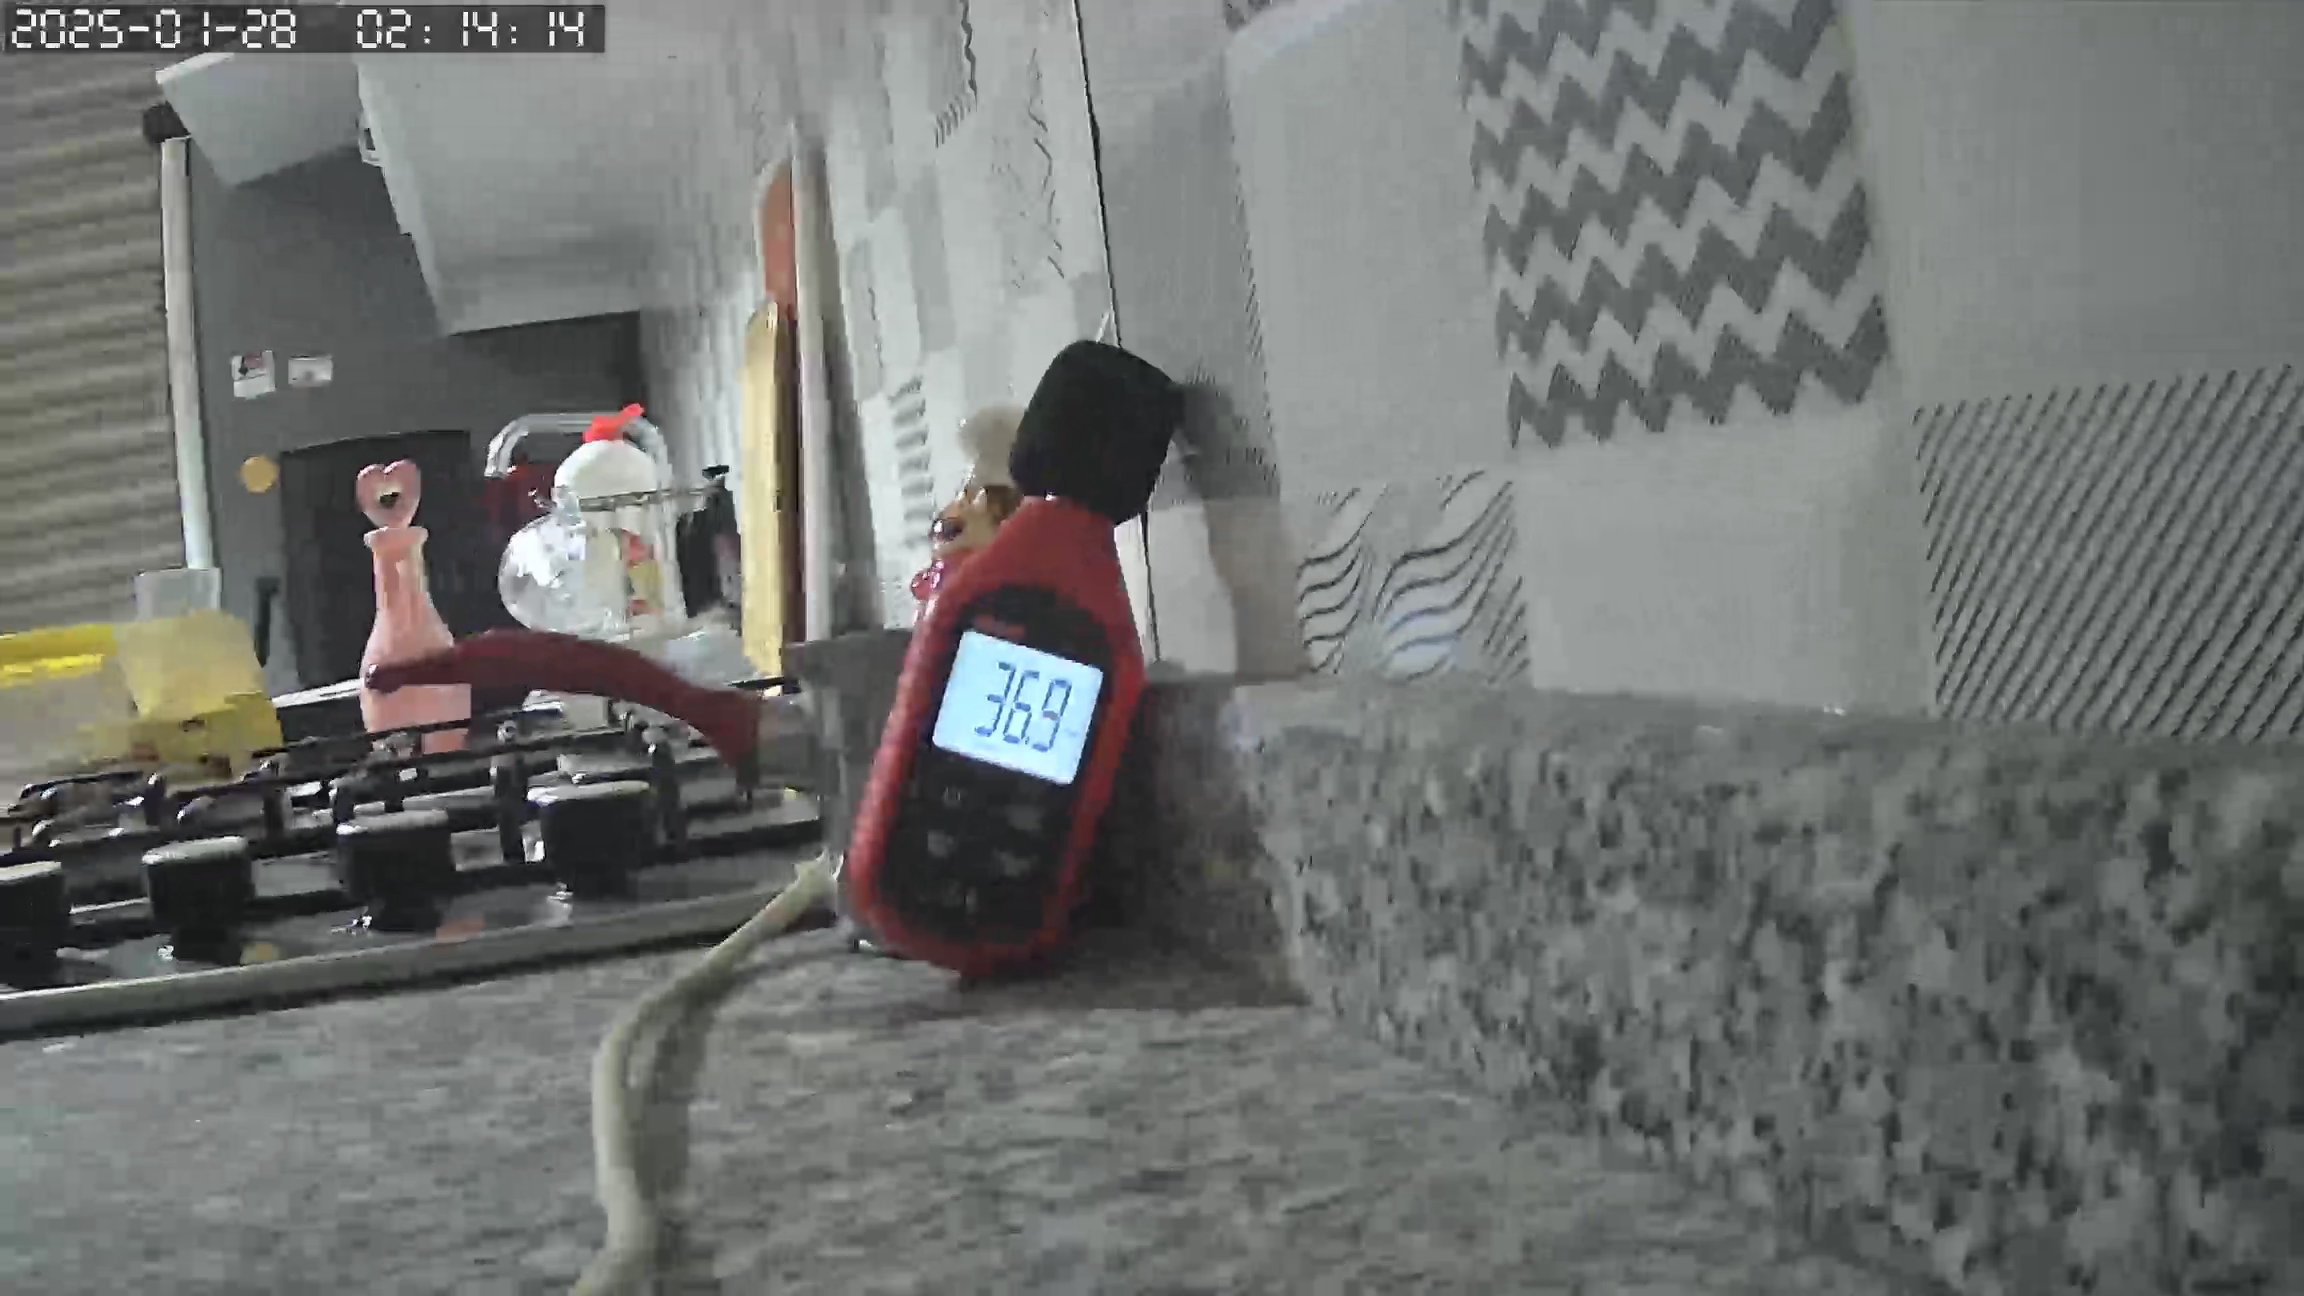screen: (932, 633, 1106, 783)
